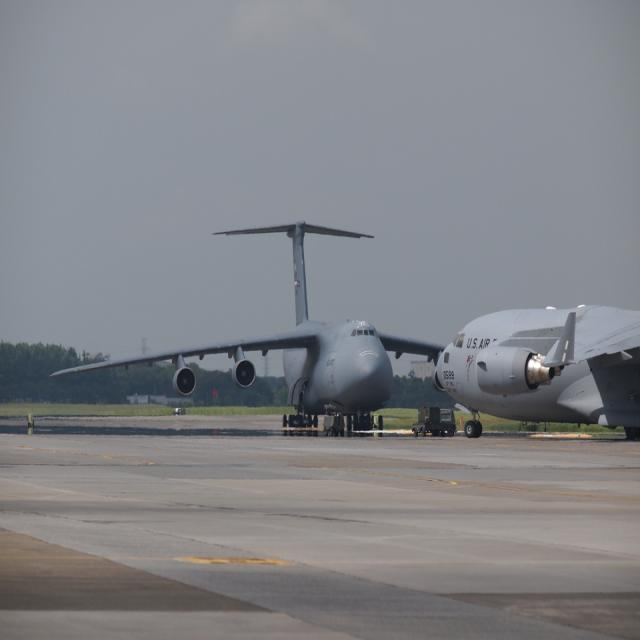MIL_Plane: (4, 215, 401, 427), (436, 265, 640, 399)
